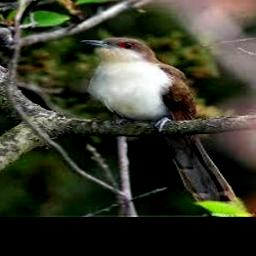Cuckoo: (78, 38, 236, 203)
